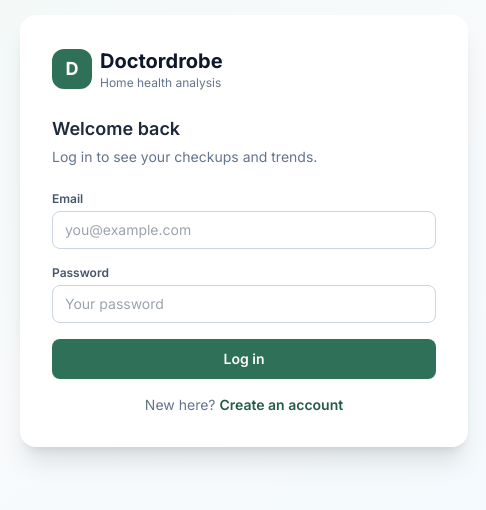
Test: Login › shows the backend error message for bad credentials
In the field with test id "login-email": (244, 230) top-left (52, 211), bottom-right (436, 249), type "tester@example.com"
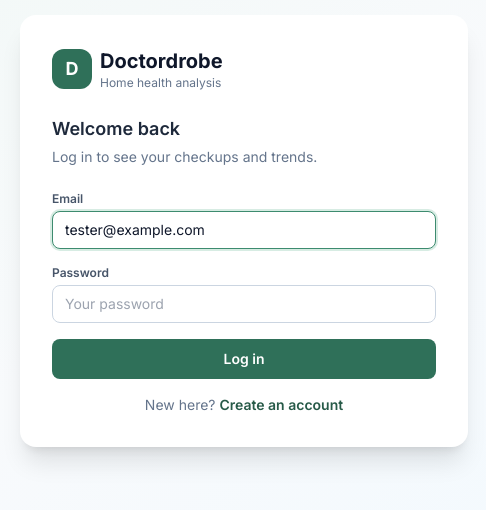
In the password field with test id "login-password": (244, 304) top-left (52, 285), bottom-right (436, 323), type "wrong-password-1"
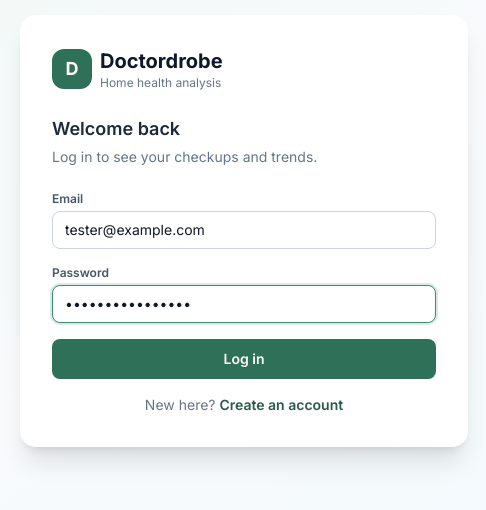
Click the button with test id "login-submit": (244, 359) top-left (52, 339), bottom-right (436, 379)
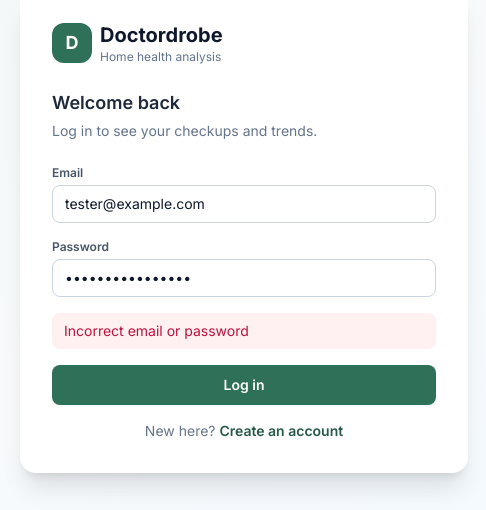
expect the message with test id "login-error" reads "Incorrect email or password": met, box top-left (64, 322), bottom-right (249, 339)
